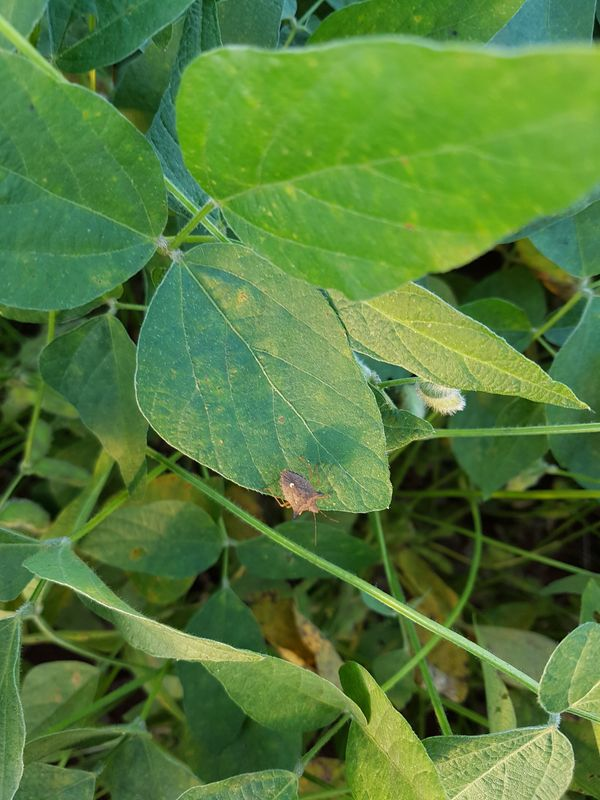Euschistus_heros_adulto: (263, 453, 346, 543)
